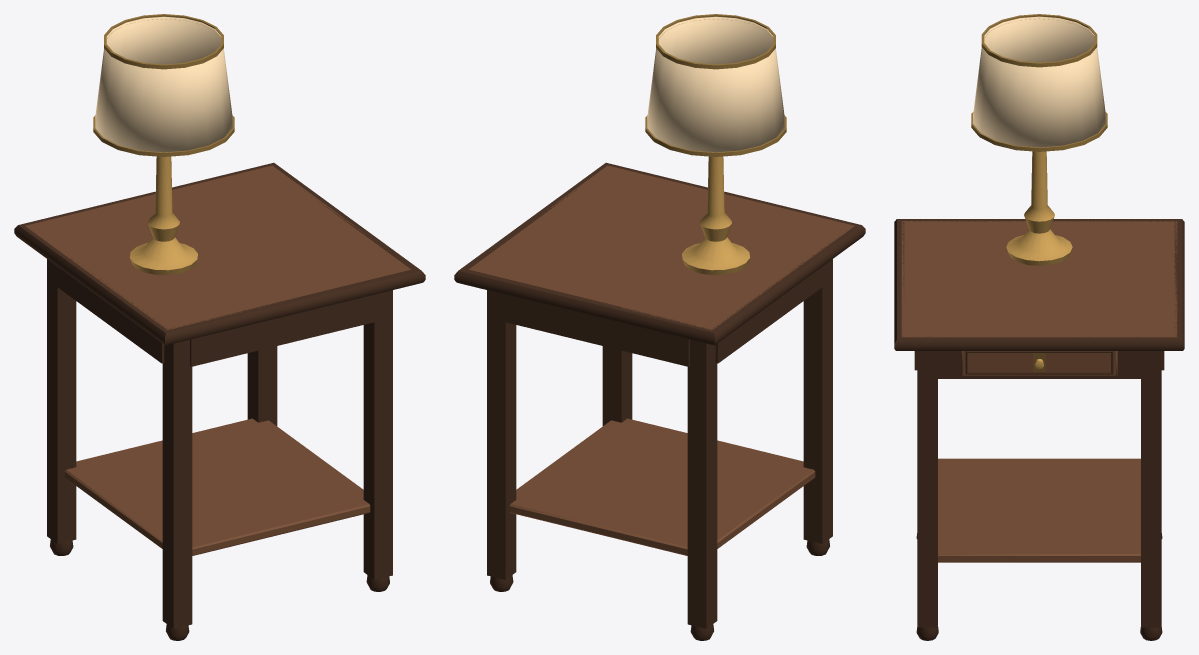
Rendered from side_table@3.glb.
3 renders of one model, left to right at view 1: azimuth 30°, elevation 25°; view 2: azimuth 150°, elevation 25°; view 3: azimuth 270°, elevation 25°, orthographic. The views are drawn at different scales.
Parts seen in each view (by area): view 1: walnut, walnut_d, schirm_seide, brass, schirm_seide_rand; view 2: walnut, walnut_d, schirm_seide, brass, schirm_seide_rand; view 3: walnut, walnut_d, schirm_seide, brass, schirm_seide_rand.
Boxes of the visible parts, x1,y1,x2,y2 form: walnut: [25, 165, 410, 555]; walnut_d: [14, 162, 425, 640]; schirm_seide: [95, 16, 232, 152]; brass: [129, 156, 197, 274]; schirm_seide_rand: [93, 14, 234, 156]; walnut: [469, 165, 854, 555]; walnut_d: [454, 162, 865, 640]; schirm_seide: [647, 16, 784, 152]; brass: [682, 156, 750, 274]; schirm_seide_rand: [645, 14, 786, 156]; walnut: [901, 221, 1177, 562]; walnut_d: [894, 219, 1184, 640]; schirm_seide: [973, 16, 1105, 147]; brass: [1006, 151, 1072, 369]; schirm_seide_rand: [971, 14, 1107, 151].
Size of the model in its own units: 0.558 by 1.11 by 0.558.
